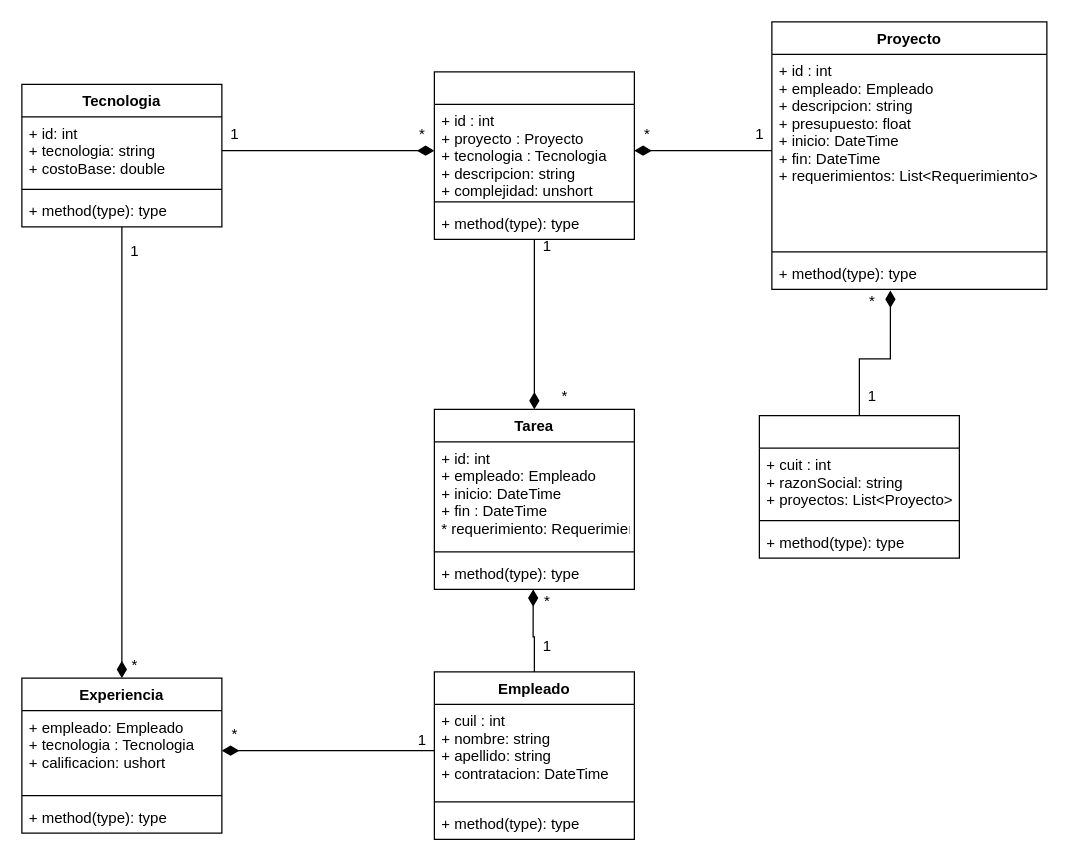
Image size: 1069x865. Some labels were removed from this diagram. The box of each missing label's shape, as (x1, y1, x2, y2) in pixels:
Cliente: (758, 414, 959, 558)
Requerimiento: (433, 71, 634, 239)
